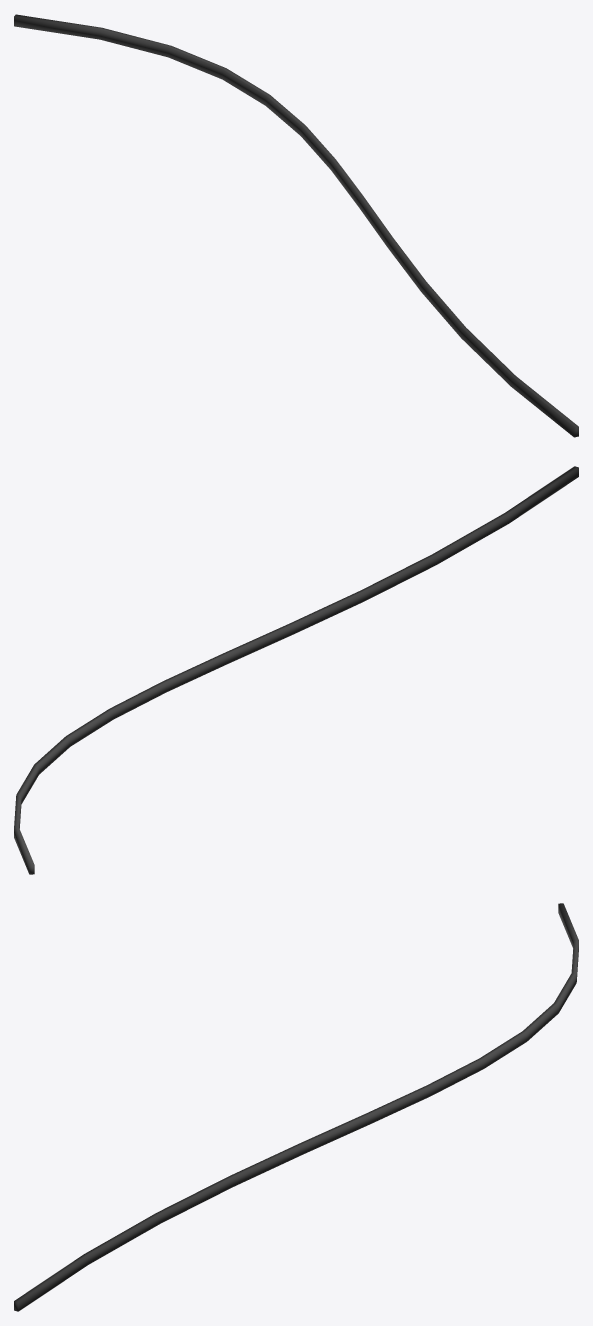
The model's file is Cable_En_El_Piso.fbx.
3 renders of one model, top to bottom at view 1: azimuth 30°, elevation 25°; view 2: azimuth 150°, elevation 25°; view 3: azimuth 330°, elevation 25°, orthographic. The views are drawn at different scales.
Parts seen in each view (by area): view 1: Cable_En_El_Piso; view 2: Cable_En_El_Piso; view 3: Cable_En_El_Piso.
Part boxes in pixels (box(x1,y1,x2,y2)): Cable_En_El_Piso: box(14, 14, 578, 437); Cable_En_El_Piso: box(14, 466, 578, 874); Cable_En_El_Piso: box(14, 903, 578, 1311).
Bounding box in the file's own units: 1.71 × 0.142 × 14.77.
Materials: 1 (1 with a texture image).
